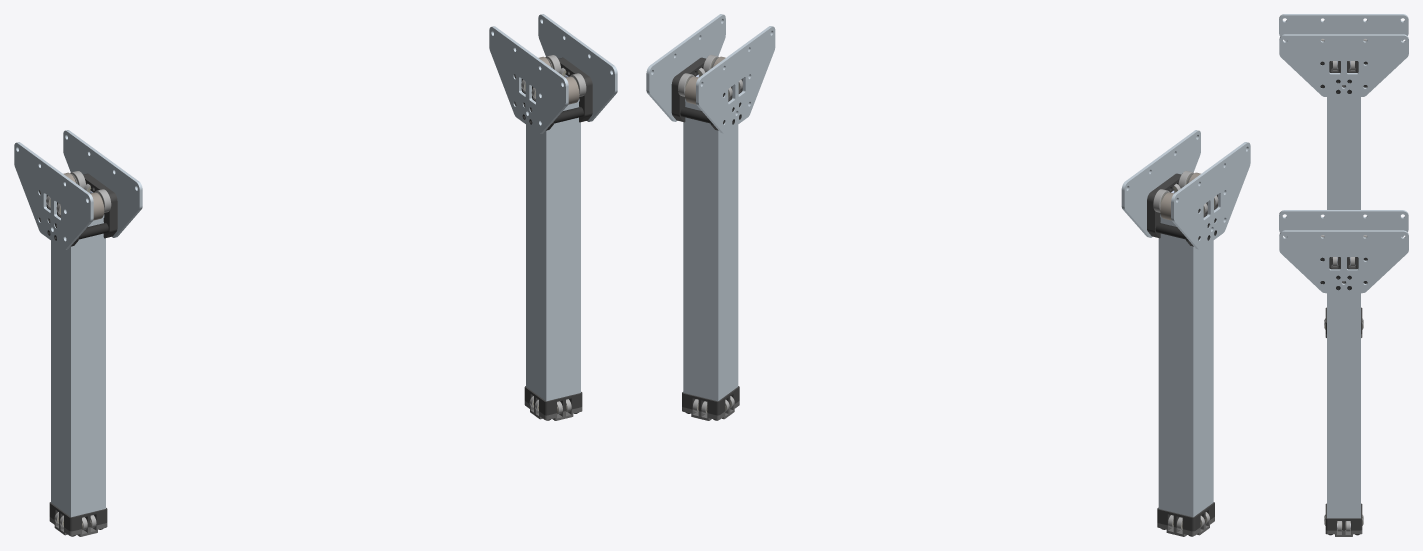
3 views of the same model, side by side, from view 1: azimuth 30°, elevation 25°; view 2: azimuth 150°, elevation 25°; view 3: azimuth 270°, elevation 25° (orthographic). The views are drawn at different scales.
Parts seen in each view (by area): view 1: 2nd Stage Left Tube (×2), Third Stage Plate (×4), WCP-0419-007 Rev1 (×2), WCP-0418-003 Rev2 (×2); view 2: 2nd Stage Left Tube (×2), Third Stage Plate (×4), WCP-0419-007 Rev1 (×2), WCP-0418-003 Rev2 (×2); view 3: Third Stage Plate (×4), 2nd Stage Left Tube (×2), WCP-0418-003 Rev2 (×2), WCP-0419-007 Rev1, WCP-0419-009 Rev1.
Boxes of the visible parts, <box> form: 2nd Stage Left Tube (×2): <box>51,98,580,517</box>; Third Stage Plate (×4): <box>14,14,617,249</box>; WCP-0419-007 Rev1 (×2): <box>49,386,582,531</box>; WCP-0418-003 Rev2 (×2): <box>83,57,592,238</box>; 2nd Stage Left Tube (×2): <box>683,98,1213,517</box>; Third Stage Plate (×4): <box>646,14,1250,249</box>; WCP-0419-007 Rev1 (×2): <box>682,386,1214,531</box>; WCP-0418-003 Rev2 (×2): <box>671,57,1181,238</box>; Third Stage Plate (×4): <box>1279,14,1408,293</box>; 2nd Stage Left Tube (×2): <box>1327,67,1360,518</box>; WCP-0418-003 Rev2 (×2): <box>1329,61,1367,283</box>; WCP-0419-007 Rev1: <box>1325,503,1362,530</box>; WCP-0419-009 Rev1: <box>1325,521,1362,536</box>.
Bounding box in the file's own units: 0.5782 × 0.3818 × 0.1456.
